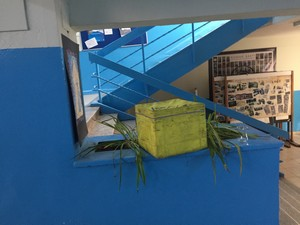cube: (134, 97, 209, 157)
